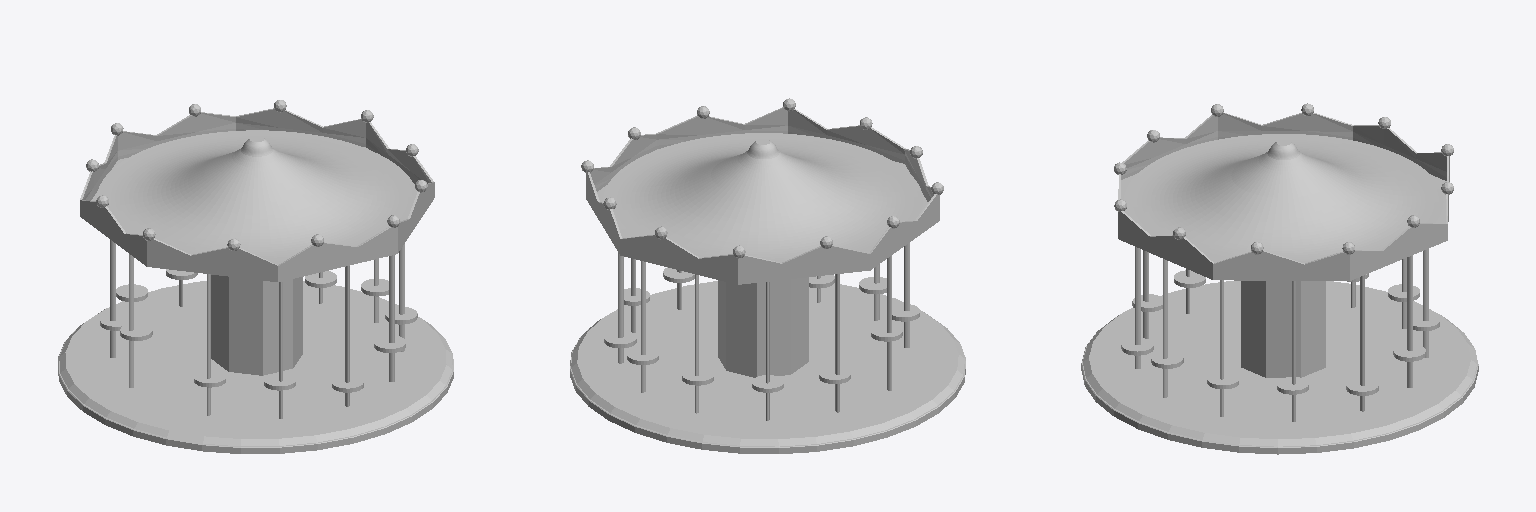
Rendered from Carousel.obj.
3 renders of one model, left to right at view 1: azimuth 30°, elevation 25°; view 2: azimuth 150°, elevation 25°; view 3: azimuth 270°, elevation 25°, orthographic.
Parts seen in each view (by area): view 1: Cylinder.012; view 2: Cylinder.012; view 3: Cylinder.012.
Boxes of the visible parts, x1,y1,x2,y2 form: Cylinder.012: [58, 100, 453, 453]; Cylinder.012: [570, 98, 965, 453]; Cylinder.012: [1081, 103, 1478, 454].
Bounding box in the file's own units: 24.44 × 15.55 × 24.44.